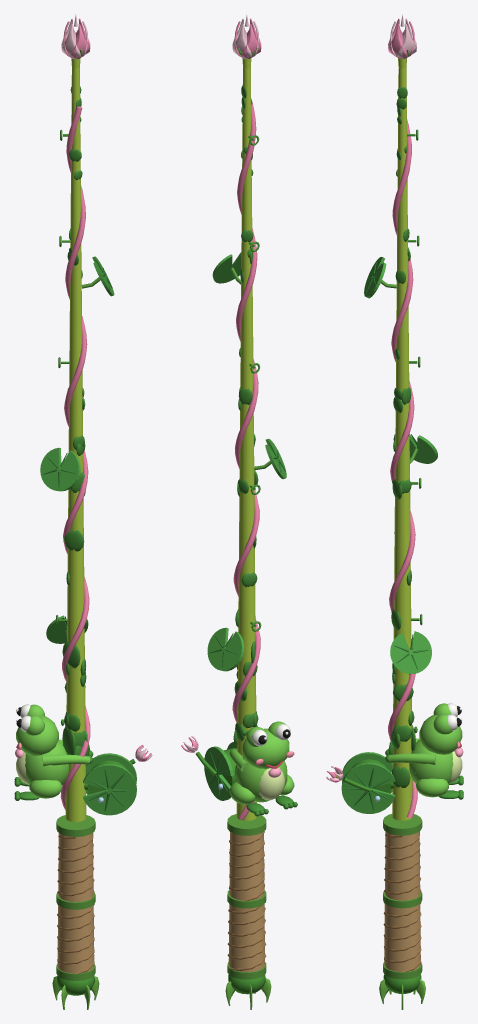
The model's file is FrogRod.glb.
3 views of the same model, side by side, from view 1: azimuth 90°, elevation 25°; view 2: azimuth 210°, elevation 25°; view 3: azimuth 270°, elevation 25° (orthographic).
Visible parts, largest first — view 1: FrogRod__FrogSkin, FrogRod__LilyPad, FrogRod__Grip, FrogRod__Frog, FrogRod__Ribbon, FrogRod__FrogSpot, FrogRod__Cord, FrogRod__GripDark, FrogRod__ReedDark, FrogRod__LotusLight, FrogRod__LilyDark, FrogRod__Lotus (+2 smaller); view 2: FrogRod__FrogSkin, FrogRod__Grip, FrogRod__LilyPad, FrogRod__Ribbon, FrogRod__Frog, FrogRod__FrogSpot, FrogRod__Cord, FrogRod__GripDark, FrogRod__ReedDark, FrogRod__FrogBelly, FrogRod__LotusLight, FrogRod__Lotus (+4 smaller); view 3: FrogRod__FrogSkin, FrogRod__LilyPad, FrogRod__Grip, FrogRod__Frog, FrogRod__Ribbon, FrogRod__FrogSpot, FrogRod__Cord, FrogRod__GripDark, FrogRod__ReedDark, FrogRod__LotusLight, FrogRod__LilyDark, FrogRod__Lotus (+2 smaller).
Part boxes in pixels (x1,y1,x2,y2): FrogRod__FrogSkin: [65, 58, 86, 821]; FrogRod__LilyPad: [40, 256, 136, 815]; FrogRod__Grip: [57, 833, 94, 973]; FrogRod__Frog: [16, 704, 90, 798]; FrogRod__Ribbon: [60, 106, 90, 810]; FrogRod__FrogSpot: [62, 86, 89, 775]; FrogRod__Cord: [56, 277, 100, 980]; FrogRod__GripDark: [57, 833, 94, 973]; FrogRod__ReedDark: [56, 129, 135, 995]; FrogRod__LotusLight: [61, 14, 152, 761]; FrogRod__LilyDark: [43, 259, 132, 811]; FrogRod__Lotus: [63, 18, 151, 761]; FrogRod__FrogSkin: [236, 58, 257, 820]; FrogRod__Grip: [228, 832, 264, 972]; FrogRod__LilyPad: [204, 252, 286, 800]; FrogRod__Ribbon: [232, 102, 260, 820]; FrogRod__Frog: [229, 721, 294, 804]; FrogRod__FrogSpot: [233, 85, 258, 781]; FrogRod__Cord: [227, 267, 271, 979]; FrogRod__GripDark: [227, 831, 266, 970]; FrogRod__ReedDark: [195, 135, 265, 994]; FrogRod__FrogBelly: [259, 767, 284, 800]; FrogRod__LotusLight: [183, 15, 259, 752]; FrogRod__Lotus: [181, 18, 261, 752]; FrogRod__FrogSkin: [392, 58, 412, 820]; FrogRod__LilyPad: [341, 257, 437, 813]; FrogRod__Grip: [384, 831, 420, 971]; FrogRod__Frog: [388, 703, 462, 797]; FrogRod__Ribbon: [388, 103, 417, 818]; FrogRod__FrogSpot: [388, 87, 415, 787]; FrogRod__Cord: [381, 280, 422, 979]; FrogRod__GripDark: [383, 831, 421, 972]; FrogRod__ReedDark: [343, 129, 422, 993]; FrogRod__LotusLight: [326, 14, 416, 782]; FrogRod__LilyDark: [345, 262, 428, 810]; FrogRod__Lotus: [326, 18, 414, 782].
Bounding box in the file's own units: 0.4858 × 6.52 × 0.8253.
